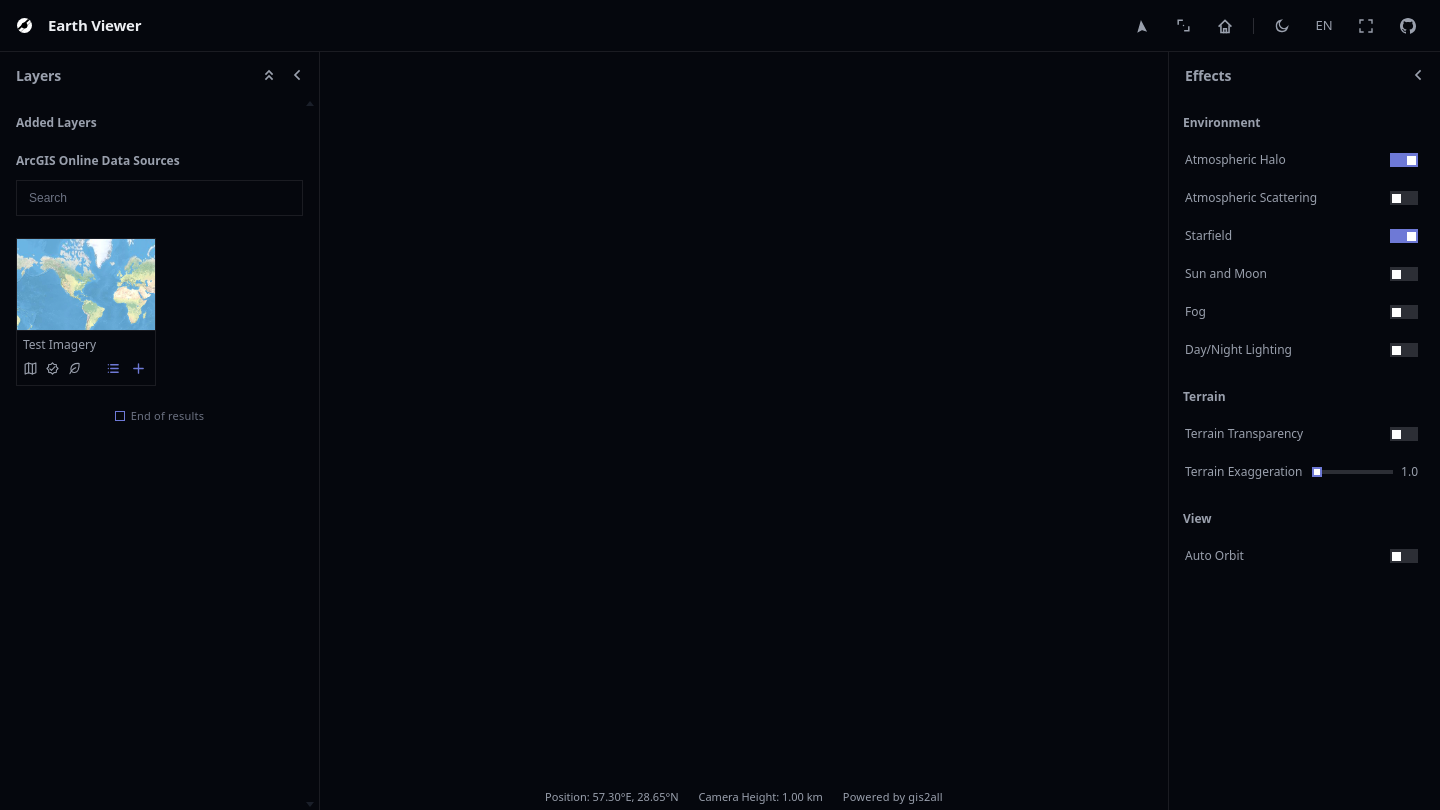
行为链路：搜索 → 添加 → 渲染 → 移除 › 搜索 WebMap → 点添加：卡片变已添加、store 记录、Cesium 收到影像图层
The width and height of the screenshot is (1440, 810).
expect the text "Test Imagery" is shown: met, box [23,336,96,353]
Click the button named "Add Test Imagery".
click(138, 369)  # box [128,359,148,379]
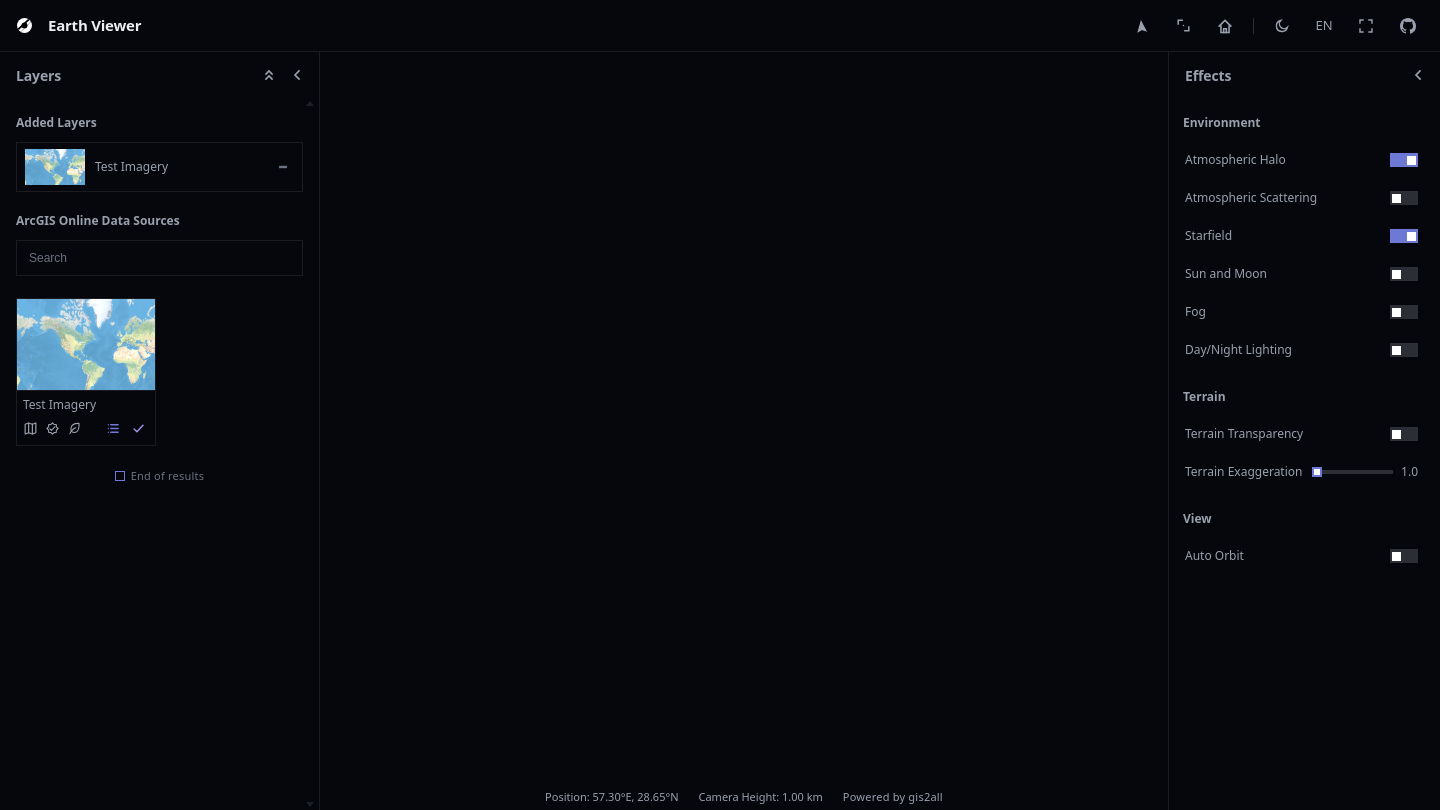
expect the button named "Added Test Imagery" is disabled: met, box [128,419,148,439]
expect the number of pictures with alt text "Test Imagery" is 2: met, box [25,149,85,185]; [17,299,154,390]
